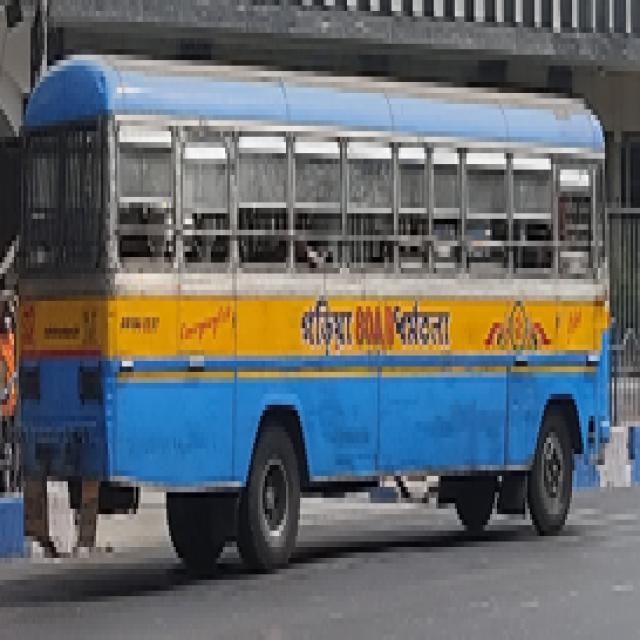bus: (19, 44, 614, 574)
